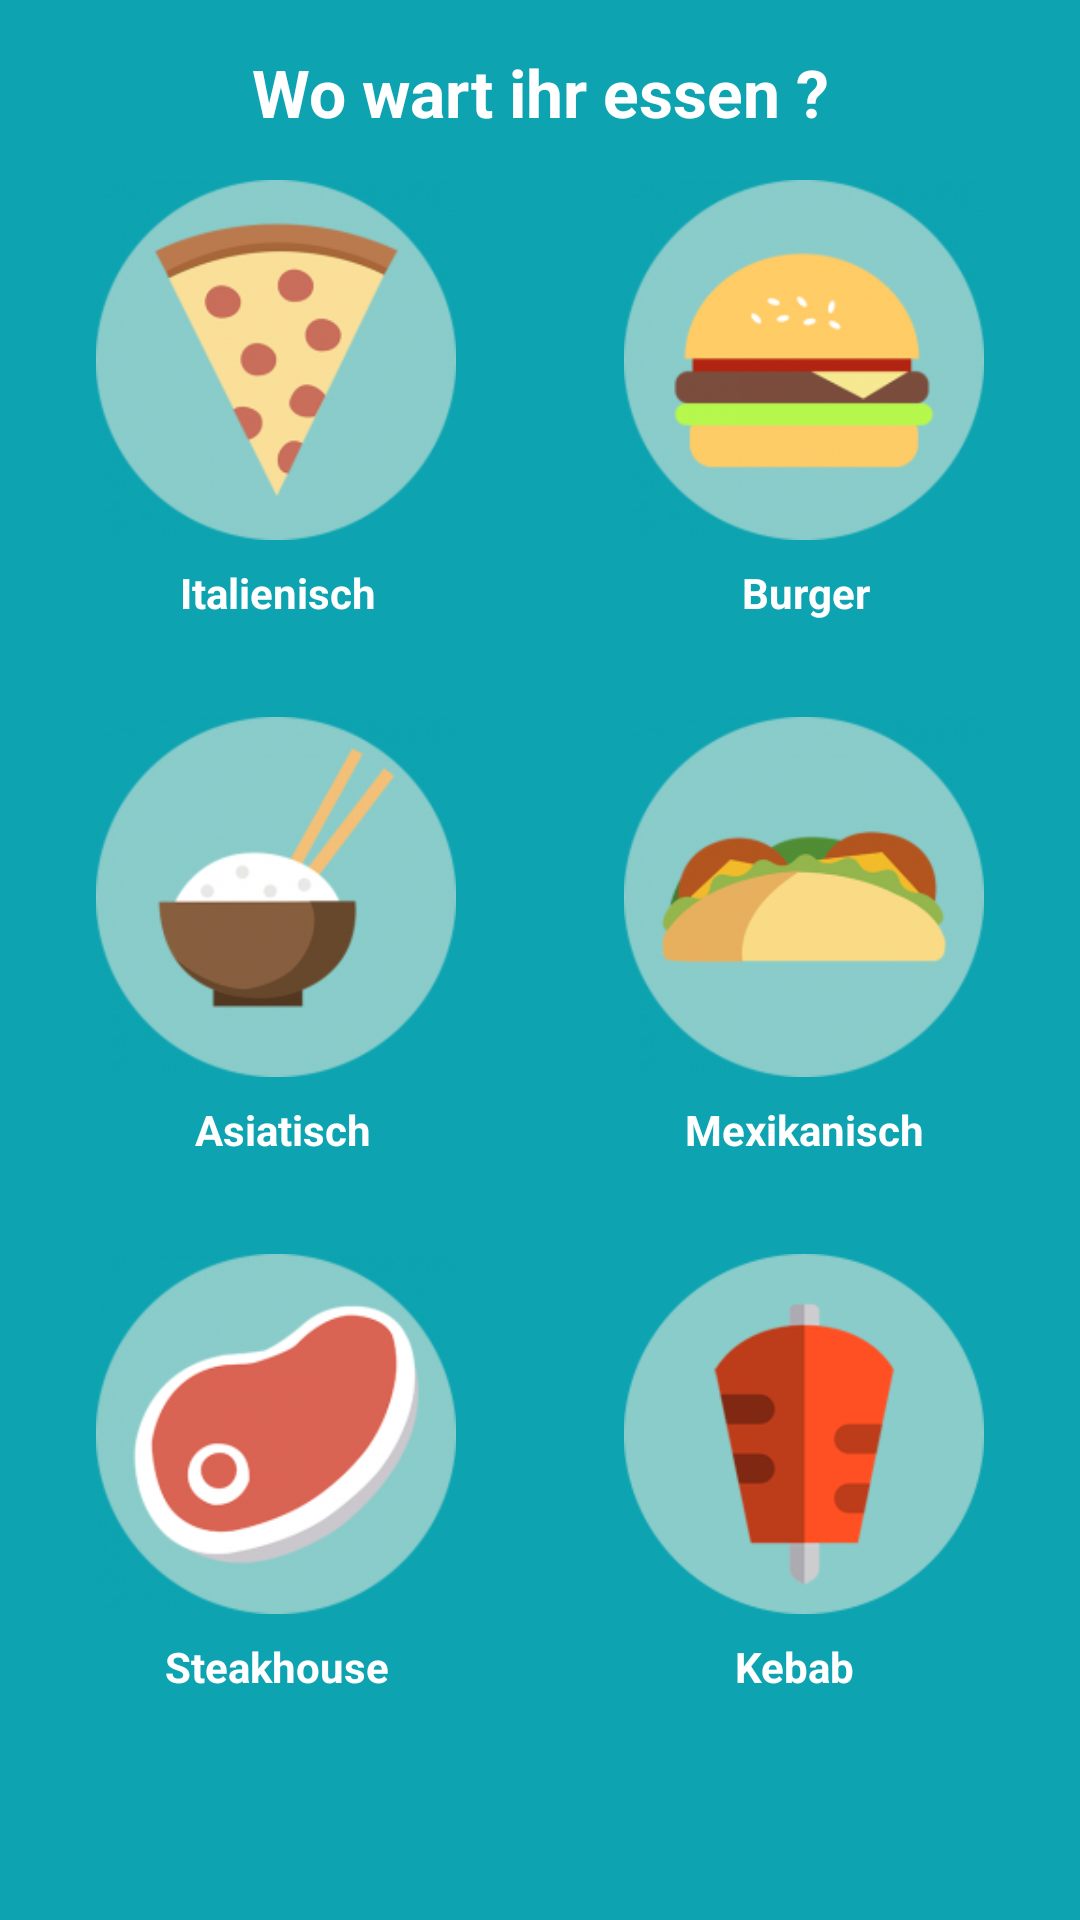

Where icons sit on this 1080px×1920px app screen, as (x1, y1, x2, y2):
pizza fin: (96, 180, 456, 540)
taco fin: (624, 717, 984, 1077)
